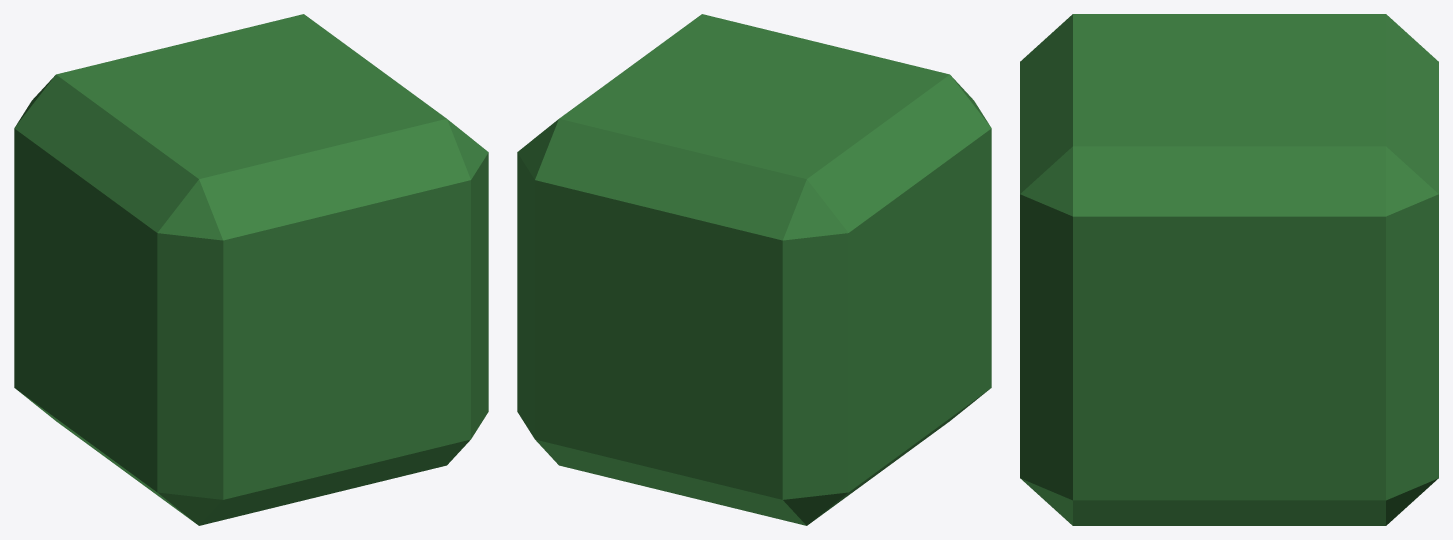
Rendered from m_kub_dung_miniCube_small.fbx.
3 views of the same model, side by side, from view 1: azimuth 30°, elevation 25°; view 2: azimuth 150°, elevation 25°; view 3: azimuth 270°, elevation 25° (orthographic). The views are drawn at different scales.
Visible parts, largest first — view 1: m_kub_dung_miniCube_small; view 2: m_kub_dung_miniCube_small; view 3: m_kub_dung_miniCube_small.
Boxes of the visible parts, x1,y1,x2,y2 form: m_kub_dung_miniCube_small: (14, 14, 488, 525); m_kub_dung_miniCube_small: (517, 14, 991, 525); m_kub_dung_miniCube_small: (1020, 14, 1438, 525).
Size of the model in its own units: 1.15 by 1.15 by 1.15.
